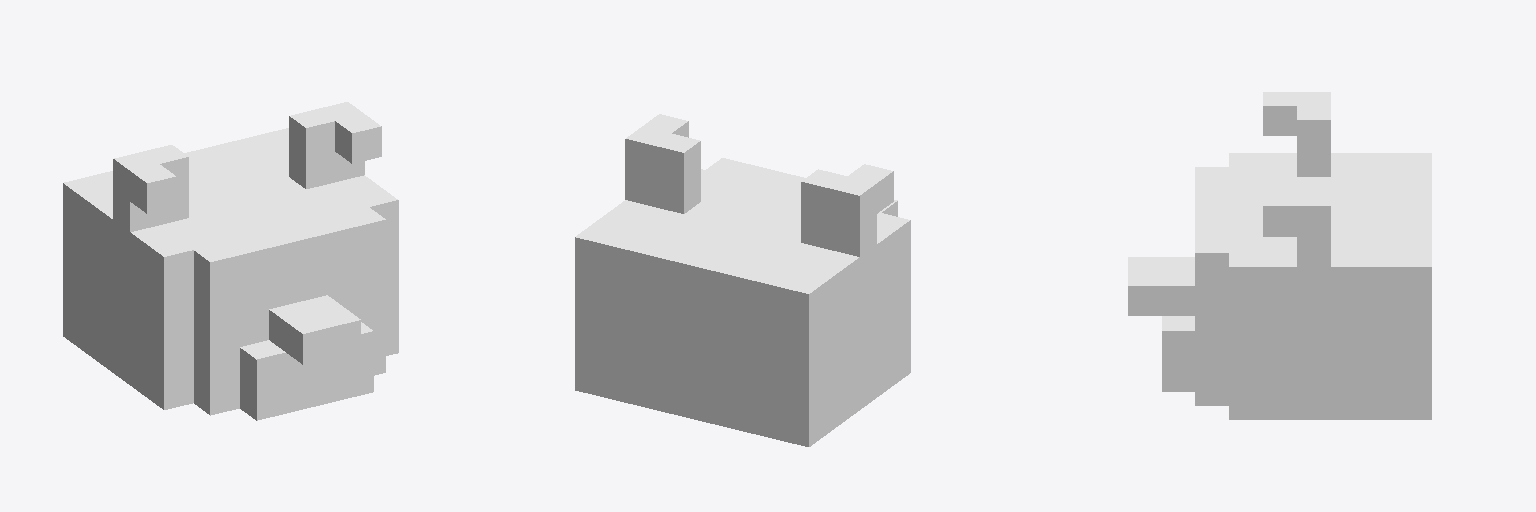
Rendered from Preta-0.obj.
3 views of the same model, side by side, from view 1: azimuth 30°, elevation 25°; view 2: azimuth 150°, elevation 25°; view 3: azimuth 270°, elevation 25° (orthographic).
Visible parts, largest first — view 1: object 1; view 2: object 1; view 3: object 1.
Part boxes in pixels (bbox=[...]): object 1: bbox=[63, 102, 398, 420]; object 1: bbox=[575, 114, 910, 446]; object 1: bbox=[1128, 92, 1431, 419].
Bounding box in the file's own units: 0.8 × 0.7 × 0.9.